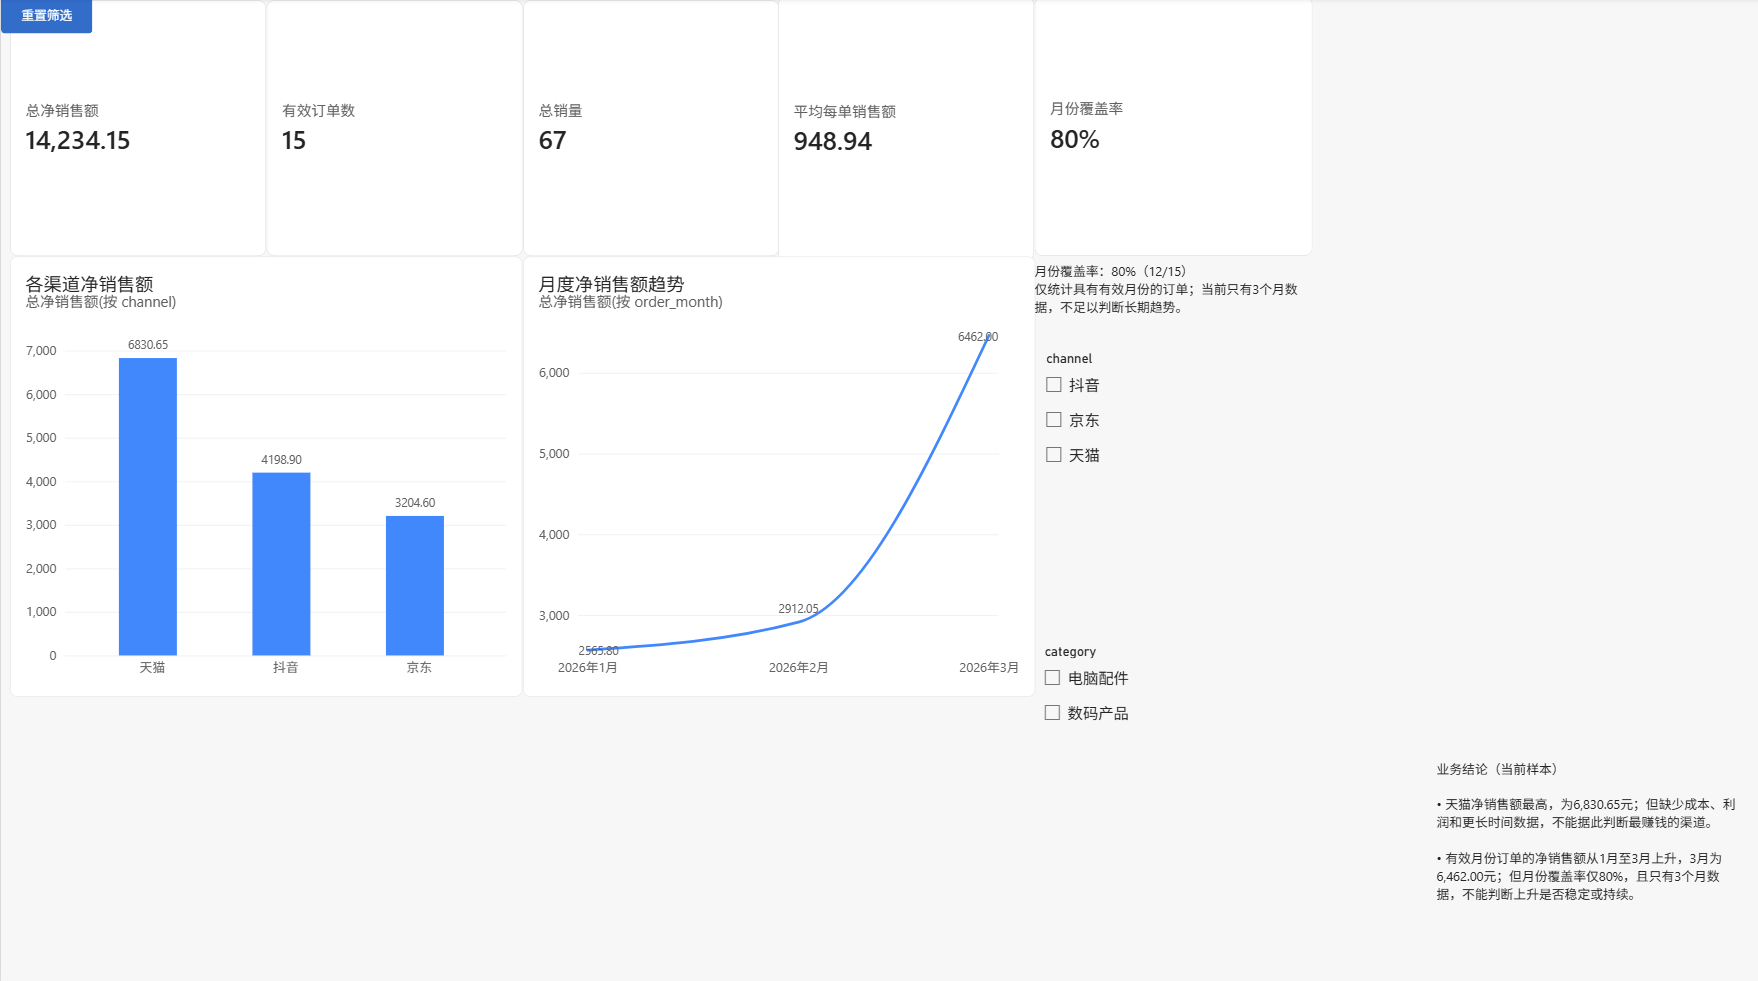

This screenshot's page, from the dashboard's own definition file:
{"tool":"powerbi","page":{"name":"第 1 页","canvas":[1920,1080],"ordinal":0},"visuals":[{"type":"cardVisual","fields":{"Data":["sales_orders.总净销售额"]},"box":[10.4,3.5,280,280],"z":0},{"type":"cardVisual","fields":{"Data":["sales_orders.有效订单数"]},"box":[290.3,3.5,280,280],"z":1},{"type":"cardVisual","fields":{"Data":["sales_orders.总销量"]},"box":[570.1,3.5,280,280],"z":2},{"type":"cardVisual","fields":{"Data":["sales_orders.平均每单销售额"]},"box":[849.4,0,280.4,288.6],"z":3},{"type":"clusteredColumnChart","title":"各渠道净销售额","fields":{"Category":["sales_orders.channel"],"Y":["sales_orders.总净销售额"]},"box":[10.4,283.3,559.7,481.5],"z":4},{"type":"lineChart","title":"月度净销售额趋势","fields":{"Category":["sales_orders.order_month"],"Y":["sales_orders.总净销售额"]},"box":[570.1,283.3,559.7,481.5],"z":5},{"type":"cardVisual","fields":{"Data":["sales_orders.月份覆盖率"]},"box":[1129.8,0,305,283.7],"z":6},{"type":"textbox","box":[1129.9,289,300.7,66],"z":7},{"type":"slicer","fields":{"Values":["sales_orders.channel"]},"box":[1133.9,387.3,560,306],"z":8},{"type":"slicer","fields":{"Values":["sales_orders.category"]},"box":[1133.2,707.4,560,306],"z":9},{"type":"actionButton","box":[0,0,100,40],"z":10},{"type":"textbox","box":[1569.5,832.9,337.2,246.9],"z":11}]}

Visuals, with their boxes in screenshot pixels (x1, y1, x2, y2), scaled from the page's 1920x1080 canvas onto the 1758x981 screenshot:
cardVisual - sales_orders.总净销售额: box(10, 3, 266, 258)
cardVisual - sales_orders.有效订单数: box(266, 3, 522, 258)
cardVisual - sales_orders.总销量: box(522, 3, 778, 258)
cardVisual - sales_orders.平均每单销售额: box(778, 0, 1034, 262)
"各渠道净销售额" clusteredColumnChart: box(10, 257, 522, 695)
"月度净销售额趋势" lineChart: box(522, 257, 1034, 695)
cardVisual - sales_orders.月份覆盖率: box(1034, 0, 1314, 258)
textbox: box(1035, 263, 1310, 322)
slicer - sales_orders.channel: box(1038, 352, 1551, 630)
slicer - sales_orders.category: box(1038, 643, 1550, 921)
actionButton: box(0, 0, 92, 36)
textbox: box(1437, 757, 1746, 980)
